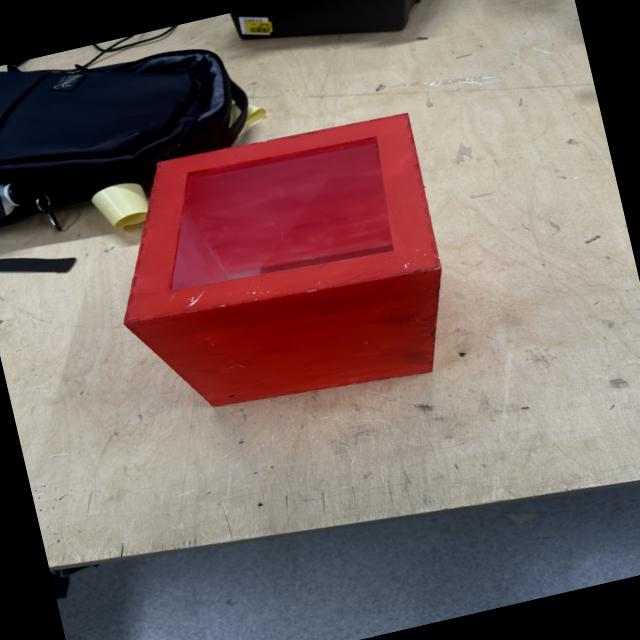red_bin: (88, 103, 466, 438)
